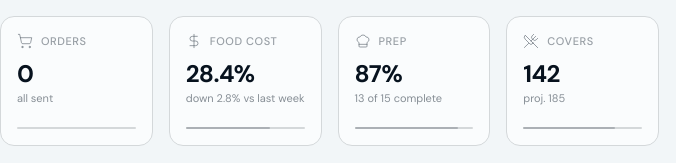
Test case: SolitaireCards — dashboard interactions (UI-001) › collapses an expanded card on second click
What coordinates should you click on to do the following:
click the button "Orders 0 all sent"
I would click on:
 (76, 81)
Its box is [0, 16, 153, 146].
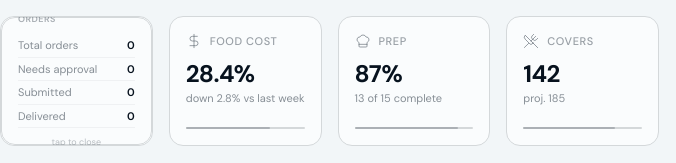
Now the text "tap to close" is shown, box [52, 136, 101, 146]
What coordinates should you click on to do the following:
click the button "Orders"
I would click on:
 (76, 81)
Its box is [0, 16, 153, 146].
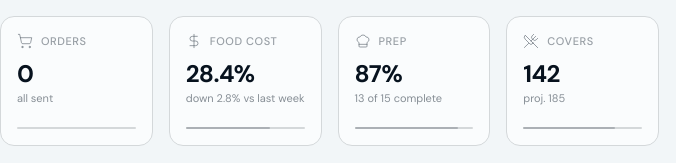
Now the text "tap to close" is gone
